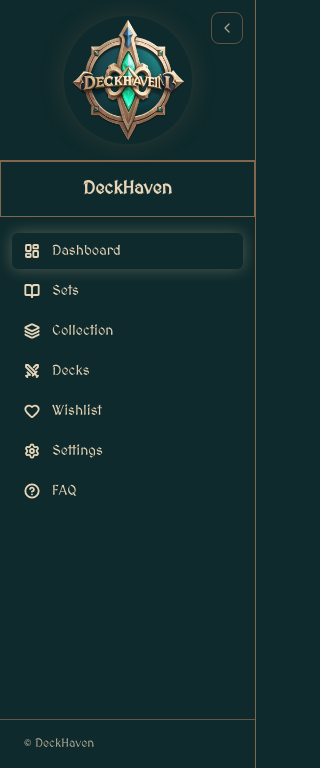
Sidebar › collapses when the toggle is clicked
This screenshot has width=320, height=768.
Expected: the text "DeckHaven" is shown, [83,175,172,203]
Note: Click toggle
What coordinates should you click on to do the following:
click the button named "collapse sidebar"
I would click on:
 (227, 28)
Its box is [211,12,243,44].
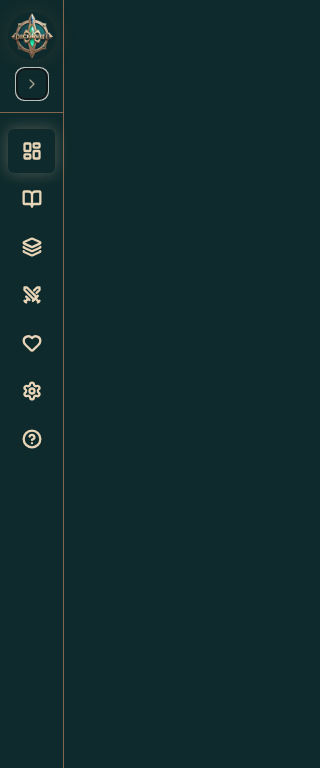
Expected: the text "DeckHaven" is gone
